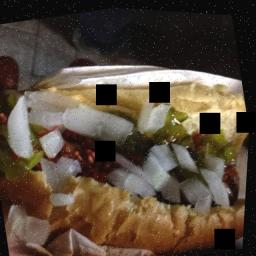hotdog: (0, 6, 256, 256)
